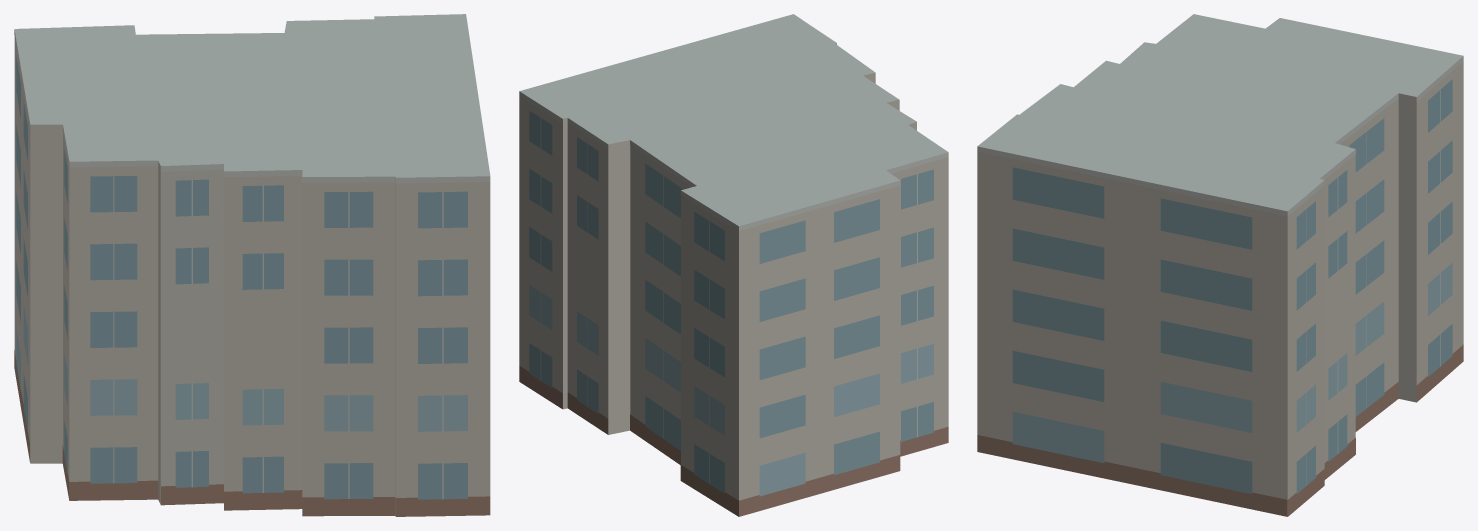
Rendered from survey-upis-33035819.glb.
3 views of the same model, side by side, from view 1: azimuth 30°, elevation 25°; view 2: azimuth 150°, elevation 25°; view 3: azimuth 270°, elevation 25° (orthographic). The views are drawn at different scales.
Visible parts, largest first — view 1: survey-upis-33035819.tmp; view 2: survey-upis-33035819.tmp; view 3: survey-upis-33035819.tmp.
Part boxes in pixels (left/top/right/bottom): survey-upis-33035819.tmp: left=14, top=14, right=490, bottom=516; survey-upis-33035819.tmp: left=519, top=14, right=948, bottom=516; survey-upis-33035819.tmp: left=977, top=14, right=1463, bottom=516.
Size of the model in its own units: 20.24 by 14.6 by 21.07.
